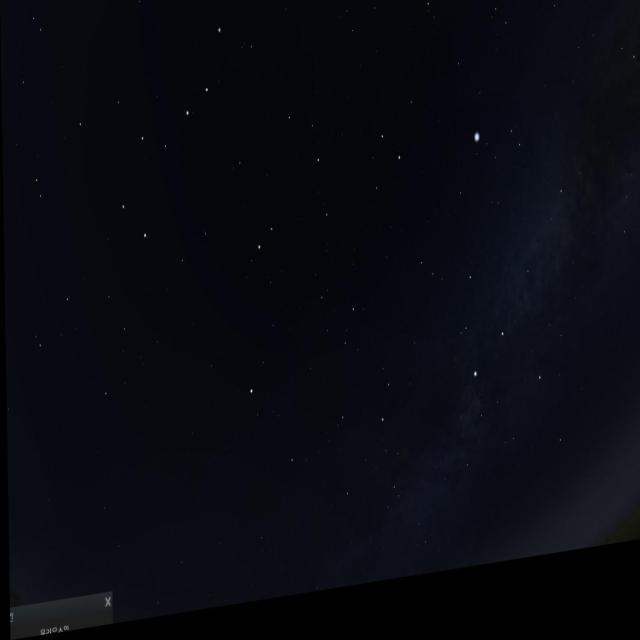cygnus: (466, 215, 577, 416)
lyra: (471, 124, 532, 208)
ursa_major: (110, 22, 230, 265)
